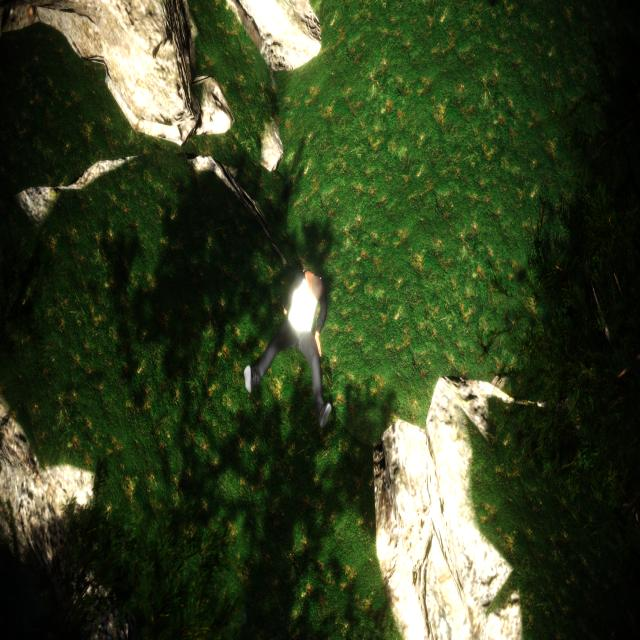Human: (243, 266, 339, 439)
